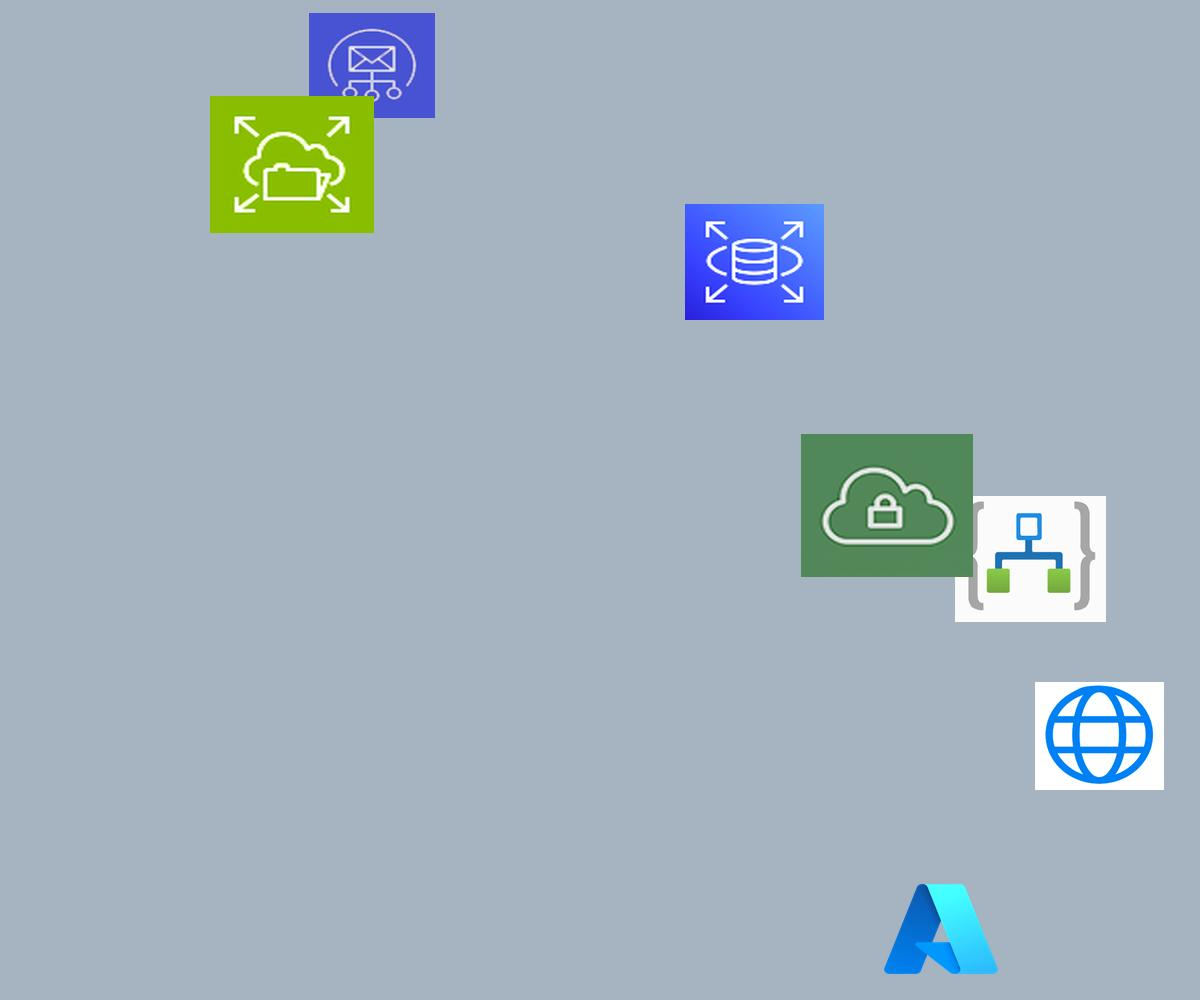AWS-EFS: (210, 96, 374, 233)
AWS-Private_vpc: (801, 434, 973, 577)
AWS-RDS: (685, 204, 824, 320)
AWS-Simple-Email-Service: (309, 13, 435, 118)
Azure_http: (1035, 682, 1164, 790)
Azure_integration-204-Logic-Apps: (955, 496, 1106, 622)
Azure_services: (879, 877, 1003, 981)
